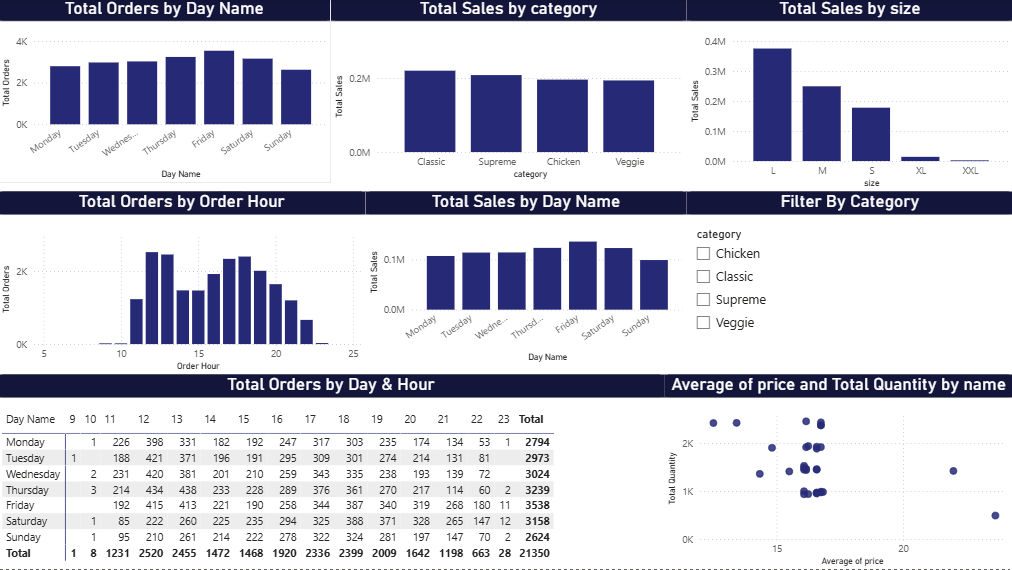

The dashboard page shown, as its layout file describes it:
{"tool":"powerbi","page":{"name":"Page 2","canvas":[1280,720],"ordinal":1},"visuals":[{"type":"clusteredColumnChart","fields":{"Category":["orders.Day Name"],"Y":["order_detail.Total Orders"]},"box":[0,0,419.5,232.4],"z":0},{"type":"clusteredColumnChart","fields":{"Category":["pizza_types.category"],"Y":["order_detail.Total Sales"]},"box":[419.5,0,447.9,232.4],"z":1000},{"type":"clusteredColumnChart","fields":{"Category":["pizzas.size"],"Y":["order_detail.Total Sales"]},"box":[867.4,0,412,243.8],"z":2000},{"type":"clusteredColumnChart","fields":{"Category":["orders.Order Hour"],"Y":["order_detail.Total Orders"]},"box":[0,243.8,463,230.6],"z":3000},{"type":"clusteredColumnChart","fields":{"Category":["orders.Day Name"],"Y":["order_detail.Total Sales"]},"box":[463,243.8,404.4,219.2],"z":4000},{"type":"slicer","title":"Filter By Category","fields":{"Values":["pizza_types.category"]},"box":[867.4,243.8,412,213.5],"z":5000},{"type":"scatterChart","fields":{"X":["Avg(pizzas.price)"],"Y":["order_detail.Total Quantity"],"Category":["pizza_types.name"]},"box":[839.1,474.3,440.3,245.7],"z":6000},{"type":"pivotTable","title":"Total Orders by Day & Hour","fields":{"Rows":["orders.Day Name"],"Columns":["orders.Order Hour"],"Values":["order_detail.Total Orders"]},"box":[0,474.3,839.1,245.7],"z":7000}]}

Visuals, with their boxes in screenshot pixels (x1, y1, x2, y2), scaled from the page's 1280x720 canvas onto the 1012x570 screenshot:
clusteredColumnChart - orders.Day Name x order_detail.Total Orders: [x1=0, y1=0, x2=332, y2=184]
clusteredColumnChart - pizza_types.category x order_detail.Total Sales: [x1=332, y1=0, x2=686, y2=184]
clusteredColumnChart - pizzas.size x order_detail.Total Sales: [x1=686, y1=0, x2=1011, y2=193]
clusteredColumnChart - orders.Order Hour x order_detail.Total Orders: [x1=0, y1=193, x2=366, y2=376]
clusteredColumnChart - orders.Day Name x order_detail.Total Sales: [x1=366, y1=193, x2=686, y2=367]
"Filter By Category" slicer: [x1=686, y1=193, x2=1011, y2=362]
scatterChart - Avg(pizzas.price) x order_detail.Total Quantity: [x1=663, y1=375, x2=1011, y2=569]
"Total Orders by Day & Hour" pivotTable: [x1=0, y1=375, x2=663, y2=569]
